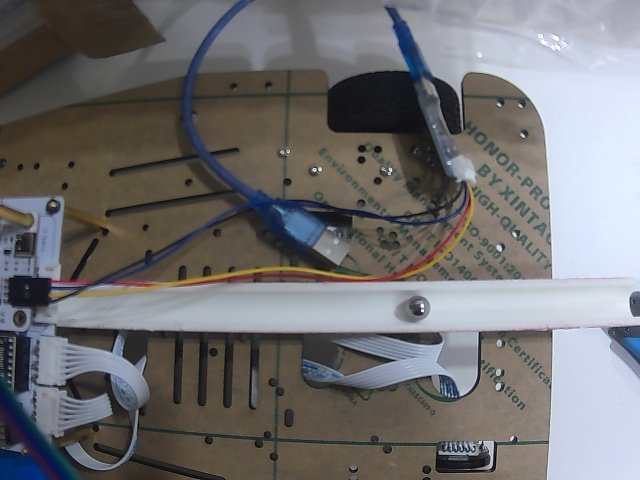steelball: (406, 295, 430, 319)
